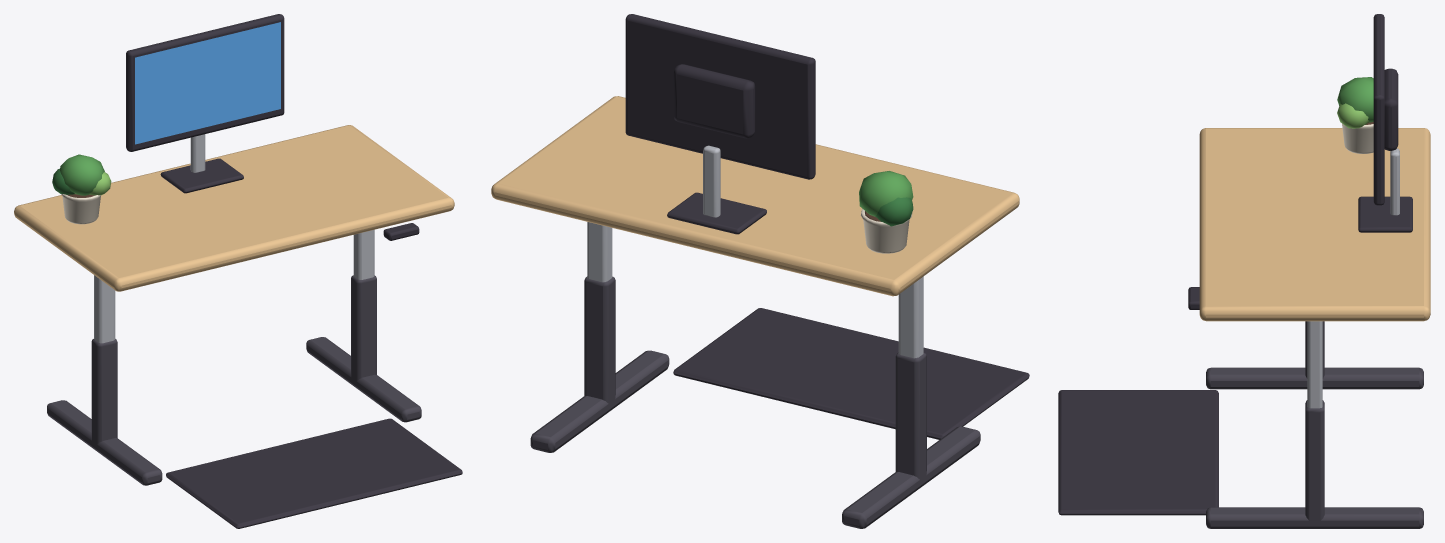
Rendered from standing_desk_l2.glb.
3 views of the same model, side by side, from view 1: azimuth 30°, elevation 25°; view 2: azimuth 150°, elevation 25°; view 3: azimuth 270°, elevation 25° (orthographic). The views are drawn at different scales.
Visible parts, largest first — view 1: standing_desk_l2, standing_screen; view 2: standing_desk_l2; view 3: standing_desk_l2.
Boxes of the visible parts, left/top/right/bottom form: standing_desk_l2: left=14, top=14, right=462, bottom=528; standing_screen: left=135, top=22, right=280, bottom=144; standing_desk_l2: left=491, top=14, right=1029, bottom=528; standing_desk_l2: left=1058, top=14, right=1430, bottom=528.
Size of the model in its own units: 1.35 by 1.38 by 1.16.
